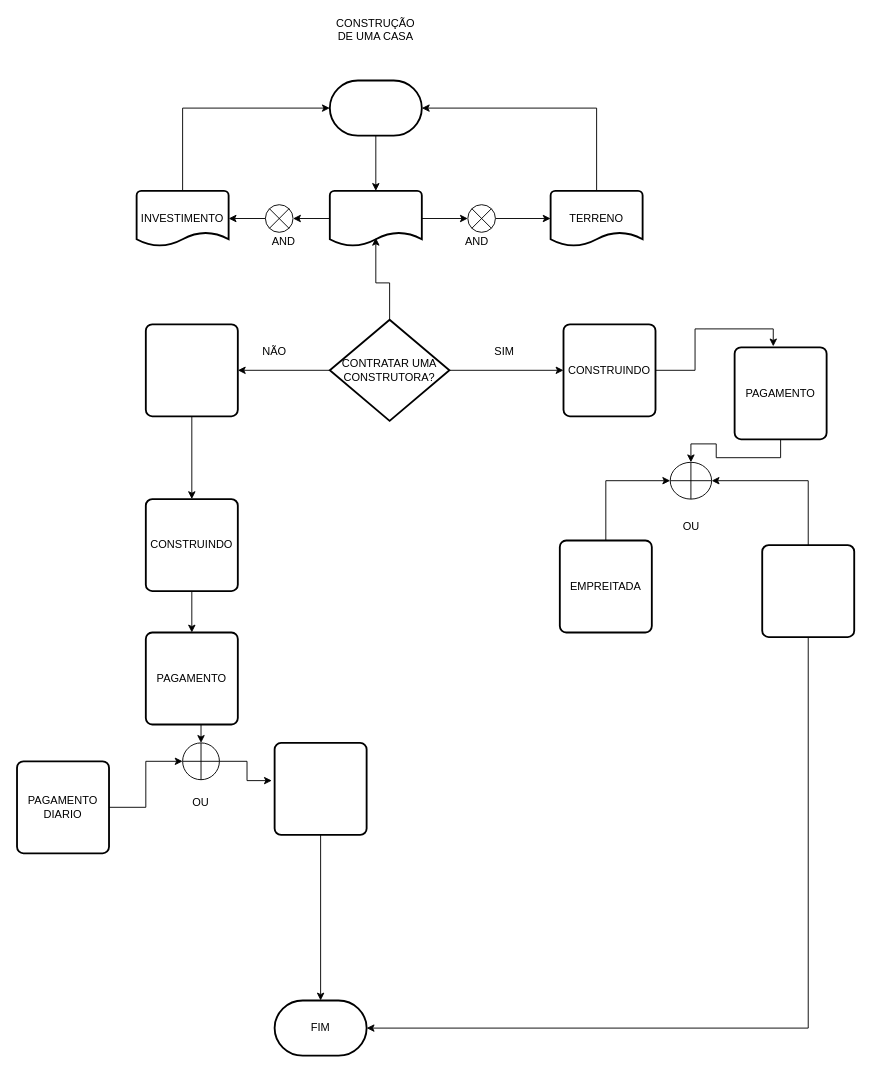
Image size: 870x1072. Some labels were removed from this diagram. The shapes that lost their labels are listed below. From the top down, each one's centre as x and y in pixels, then its label:
[375,107]: INICIO
[375,218]: APROVAÇÃO PROJETO
[191,370]: CONTRATAR MESTRE DE OBRA
[808,591]: ADMINISTRAÇÃO
[320,788]: PAGAMENTO SEMANAL
